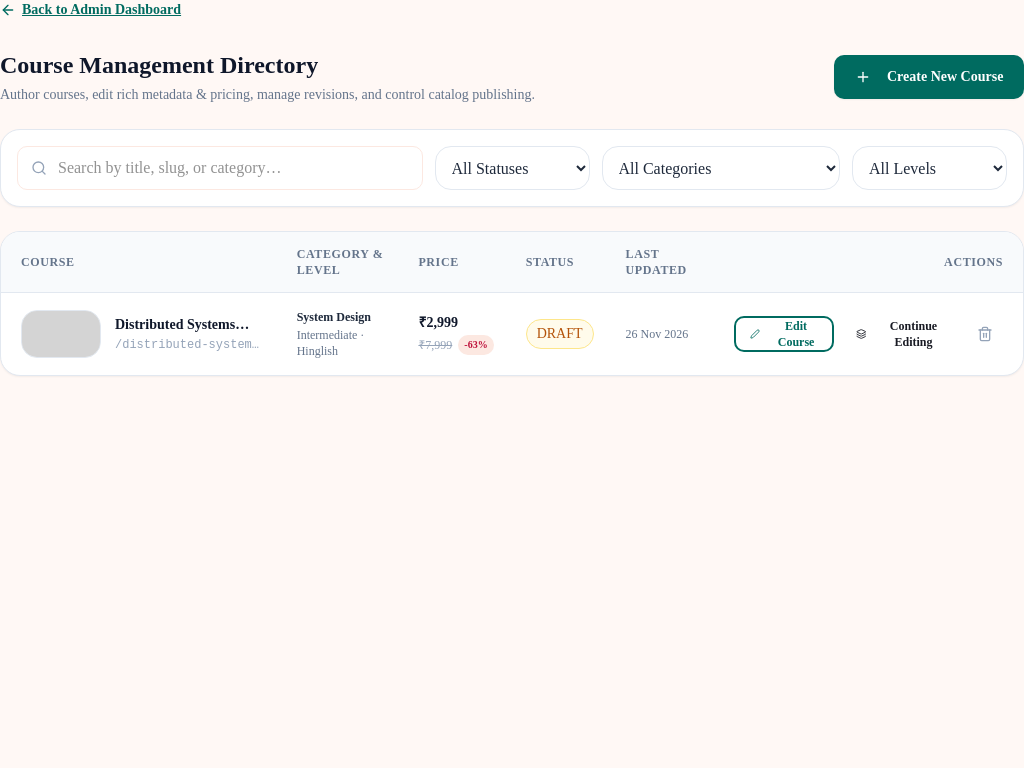
Phase 1: AdminCoursesPage Directory States & Actions › renders loading, empty, error with retry, and populated course states cleanly
Later steps or results of the test are not shown.
Expected: the link "Distributed Systems Mastery" is shown, [115,317,235,352]
Expected: the text "₹2,999" is shown, [418,315,458,330]
Click the button named "Archive Distributed Systems Mastery".
click(985, 334)  # box [967,316,1003,352]
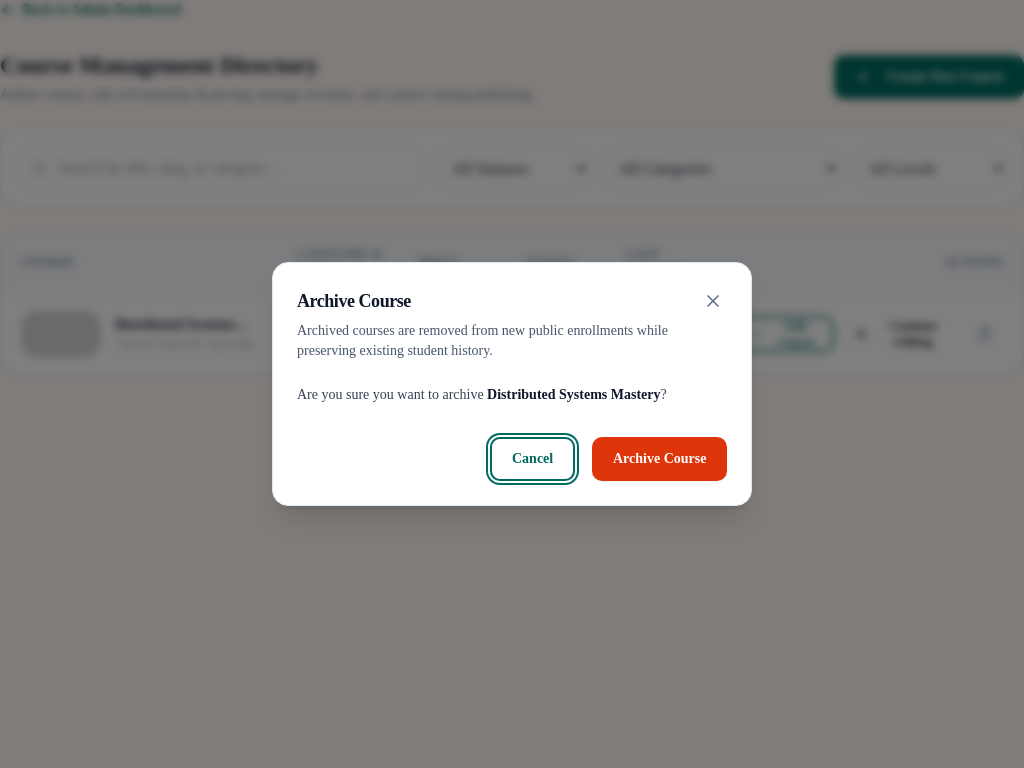
Now the text "Are you sure you want to archive" is shown, box [297,387,484,402]
